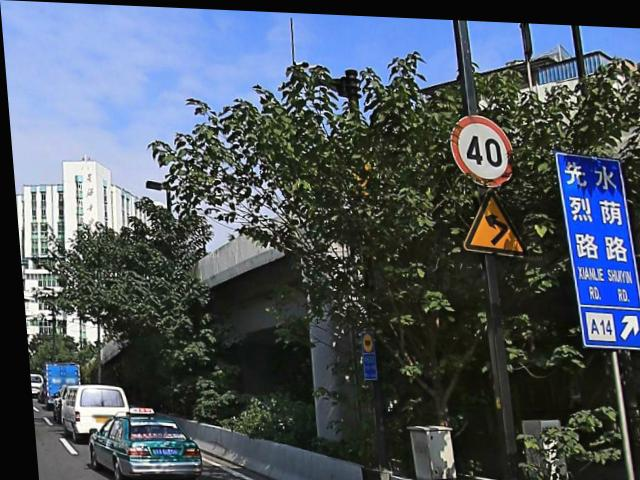limit40: (448, 107, 516, 186)
